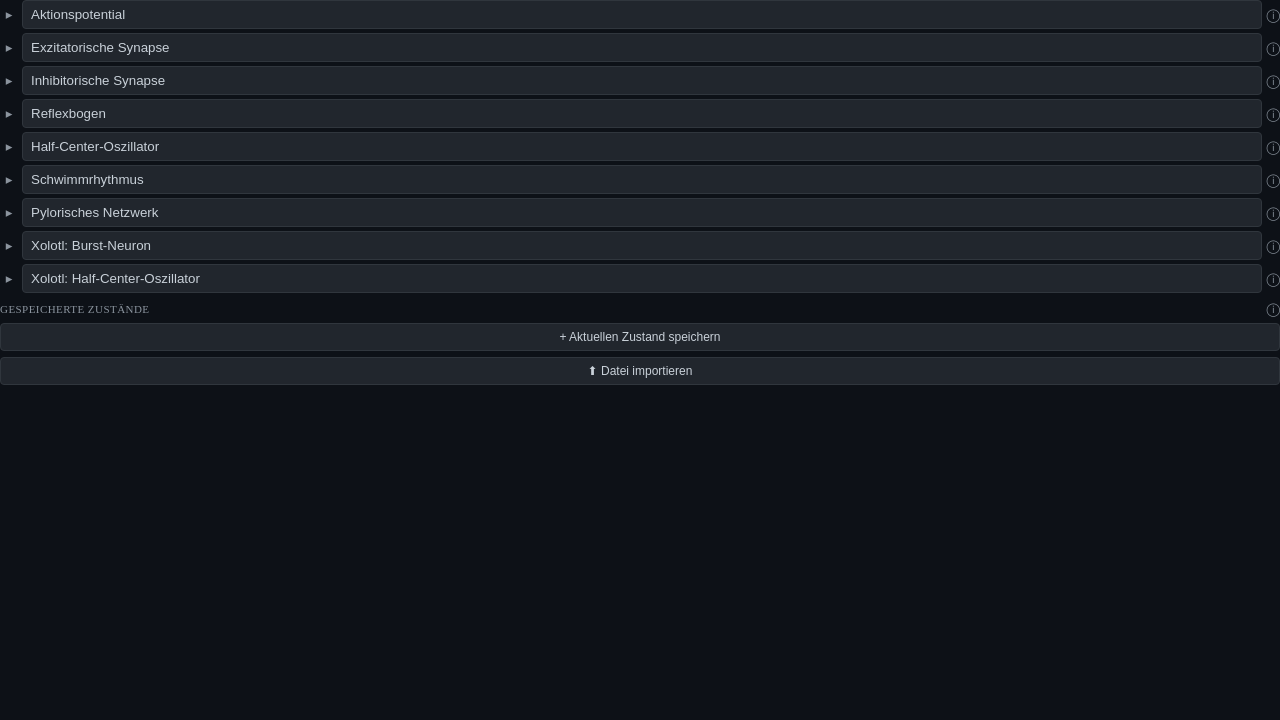
Test: SavedSetupList › opens an explanation of local vs file saving via the ⓘ button, and closes it
expect the text "Lokal speichern (dieser Browser)" is not shown: met
Click the button titled "Erklärung: Zustände speichern & weitergeben" in the row of "Gespeicherte Zustände". click: (1273, 309)
box: [1266,301,1279,317]
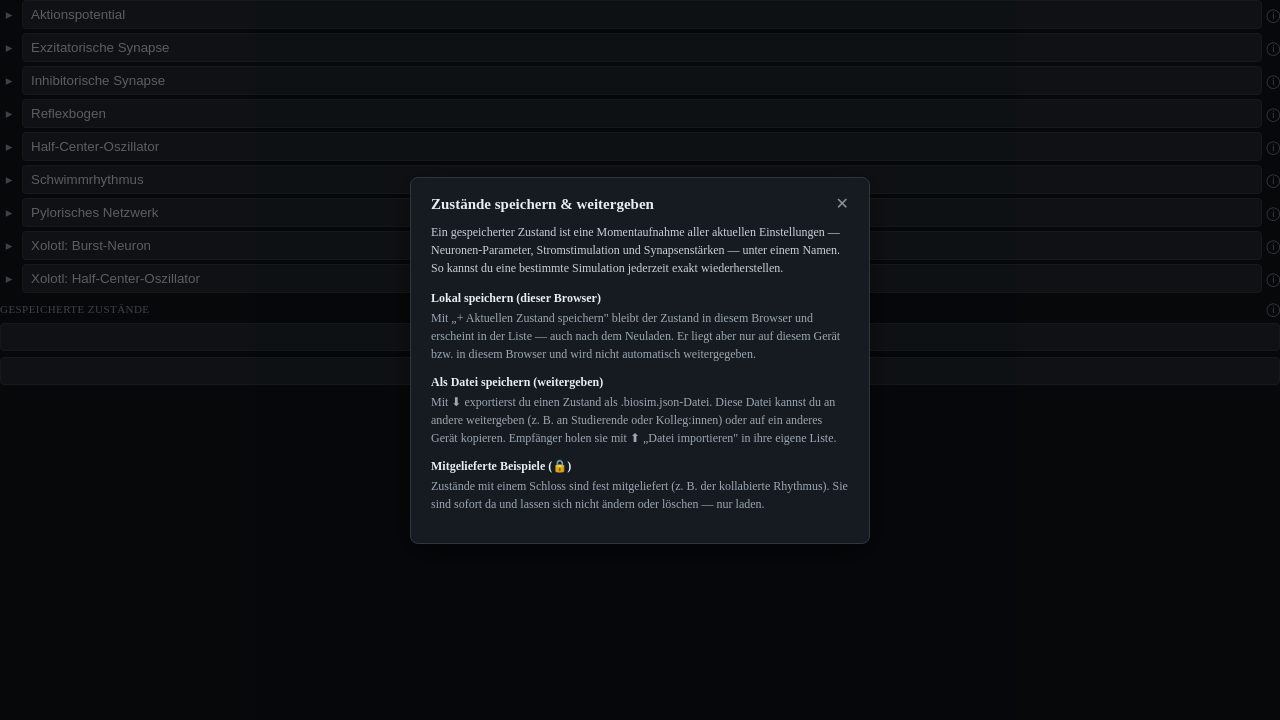
expect the text "Lokal speichern (dieser Browser)" is shown: met, box [431,290,601,304]
expect the text "Als Datei speichern (weitergeben)" is shown: met, box [431,374,603,388]
Click the button titled "Schließen". click: (842, 204)
box: [836,196,849,212]
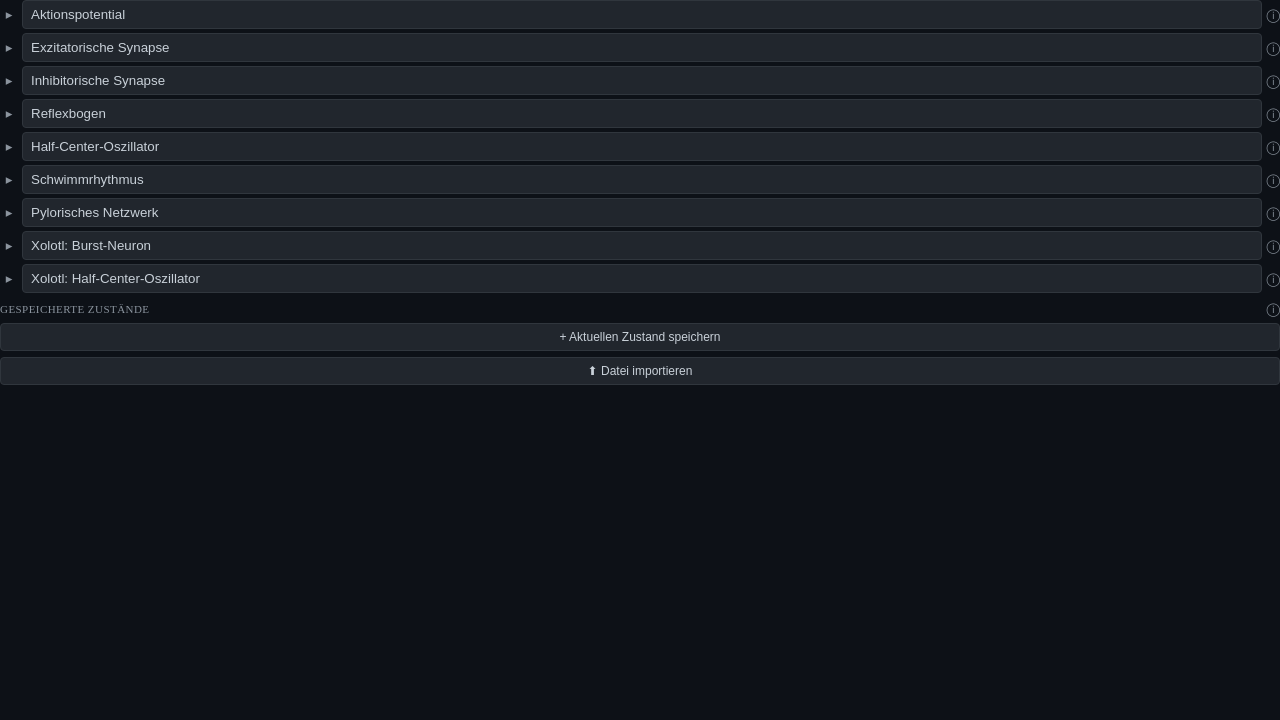
expect the text "Lokal speichern (dieser Browser)" is gone: met
